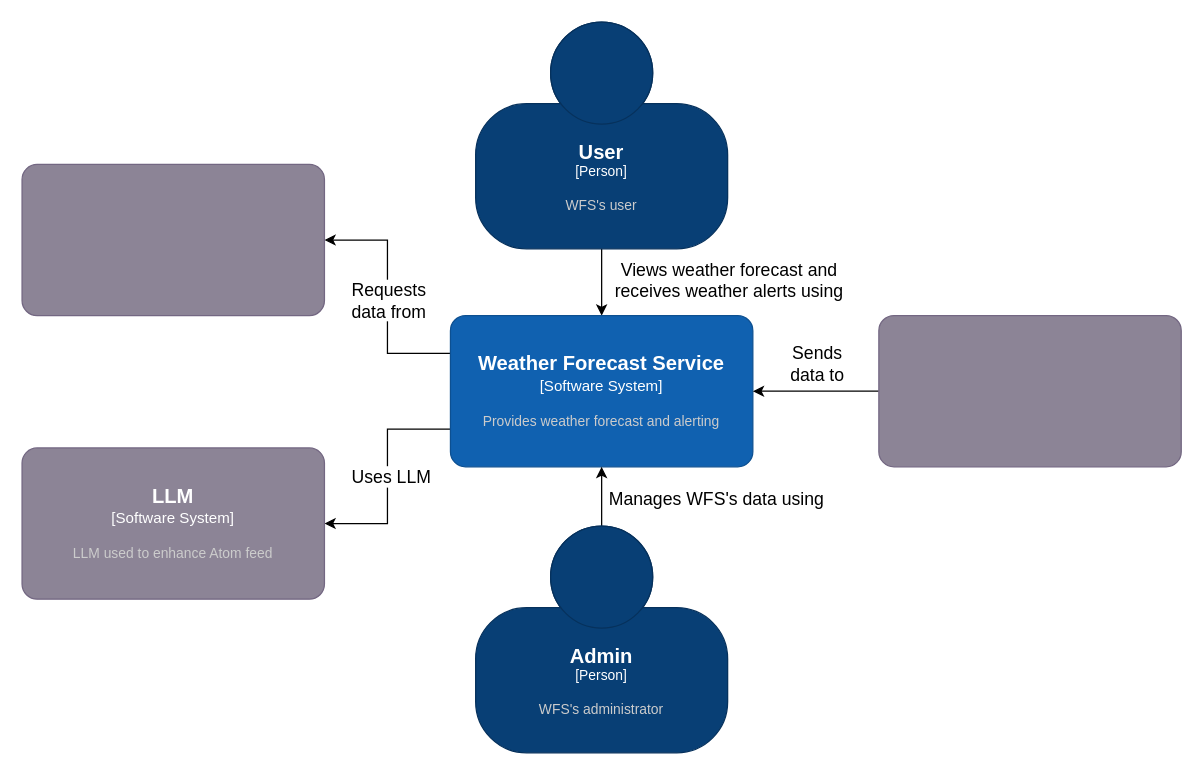
The diagram is 1203 pixels wide and 775 high, and some of its shapes have lost their labels. Each missing label, with the centre of its shape:
"GitHub [Software System] Webhooks event provider" belongs at point (1029, 390).
"open-meteo.com [Software System] API used as a source of weather forecast data" belongs at point (172, 239).
